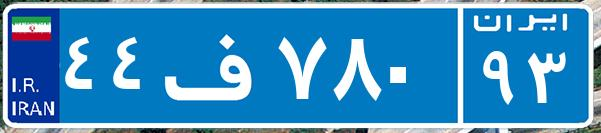0: (385, 28, 445, 110)
3: (525, 38, 570, 115)
4: (57, 26, 110, 107), (110, 28, 158, 105)
7: (273, 28, 330, 110)
8: (330, 28, 385, 110)
9: (475, 38, 525, 113)
ف: (158, 15, 273, 115)
